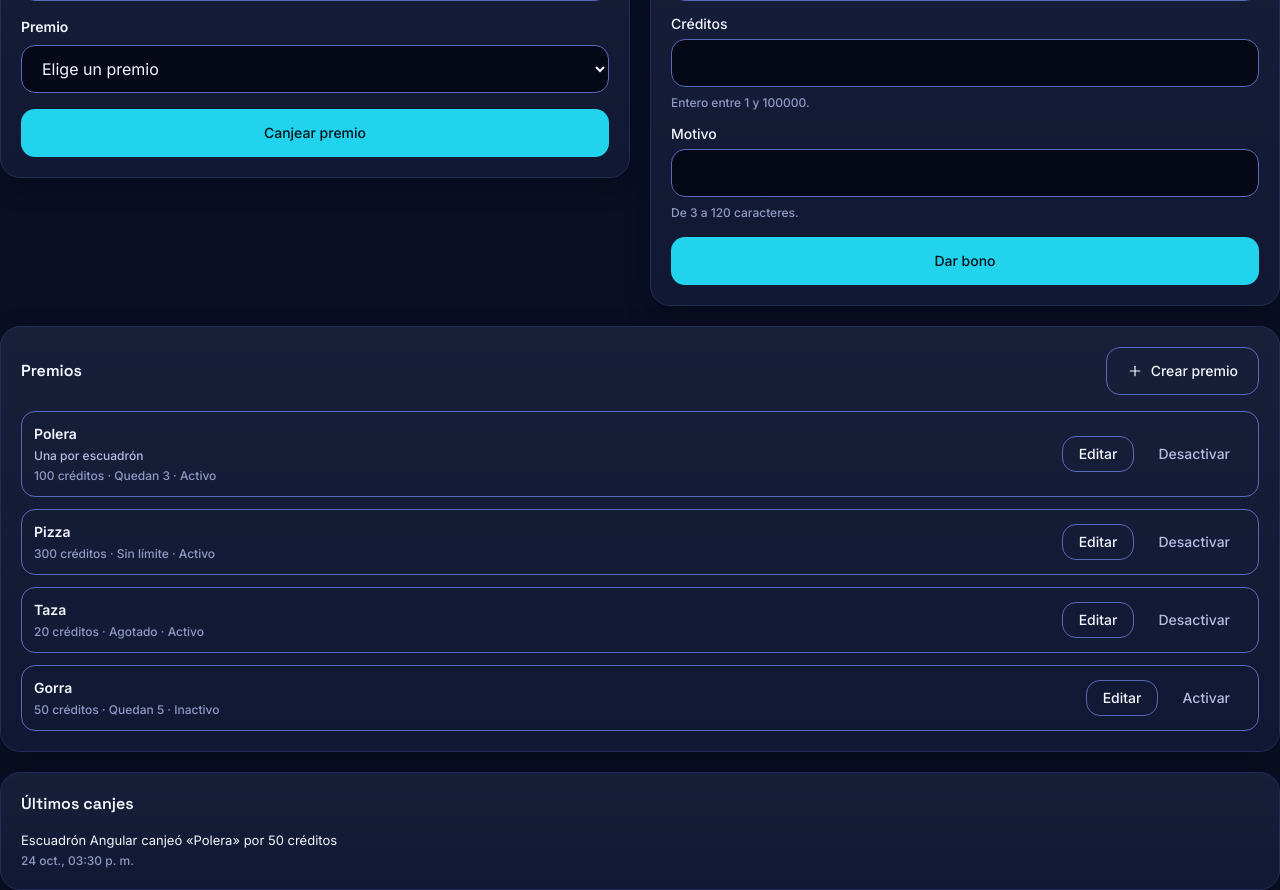
Test: SquadCreditsAdminView › prizes › edits a prize with its values, the id fixed, and an empty stock as no limit
The image size is (1280, 890).
(page scrolled)
Click the button "Editar" in the row of "Una por escuadrón" at (1098, 454), box [1062, 436, 1134, 472]
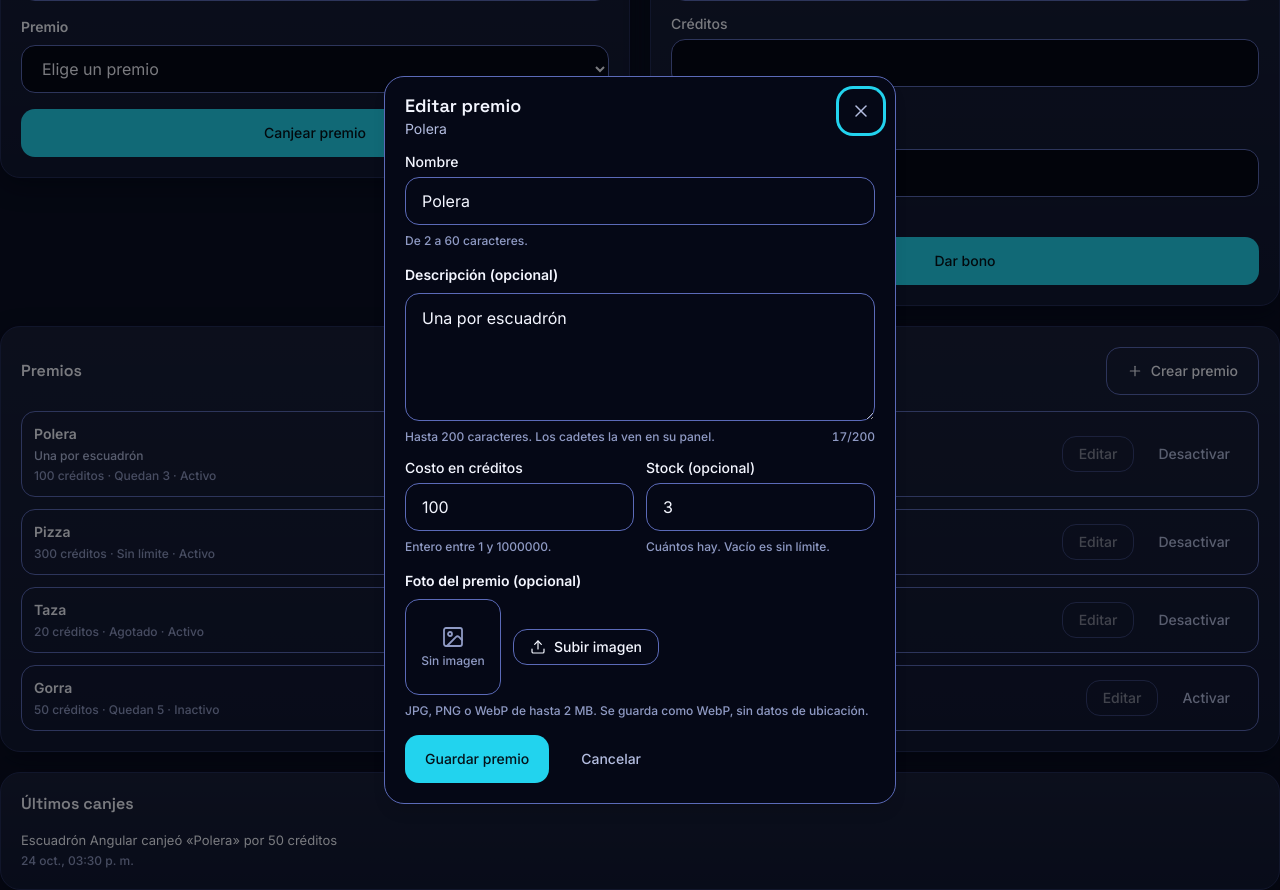
Check: the field labelled "Nombre" holds "Polera", box [405, 177, 875, 225]
Check: the text box labelled "Descripción (opcional)" holds "Una por escuadrón", box [405, 293, 875, 421]
Check: the field labelled "Costo en créditos" holds "100", box [405, 483, 634, 531]
Clear the field labelled "Stock (opcional)" at (760, 507), box [646, 483, 875, 531]
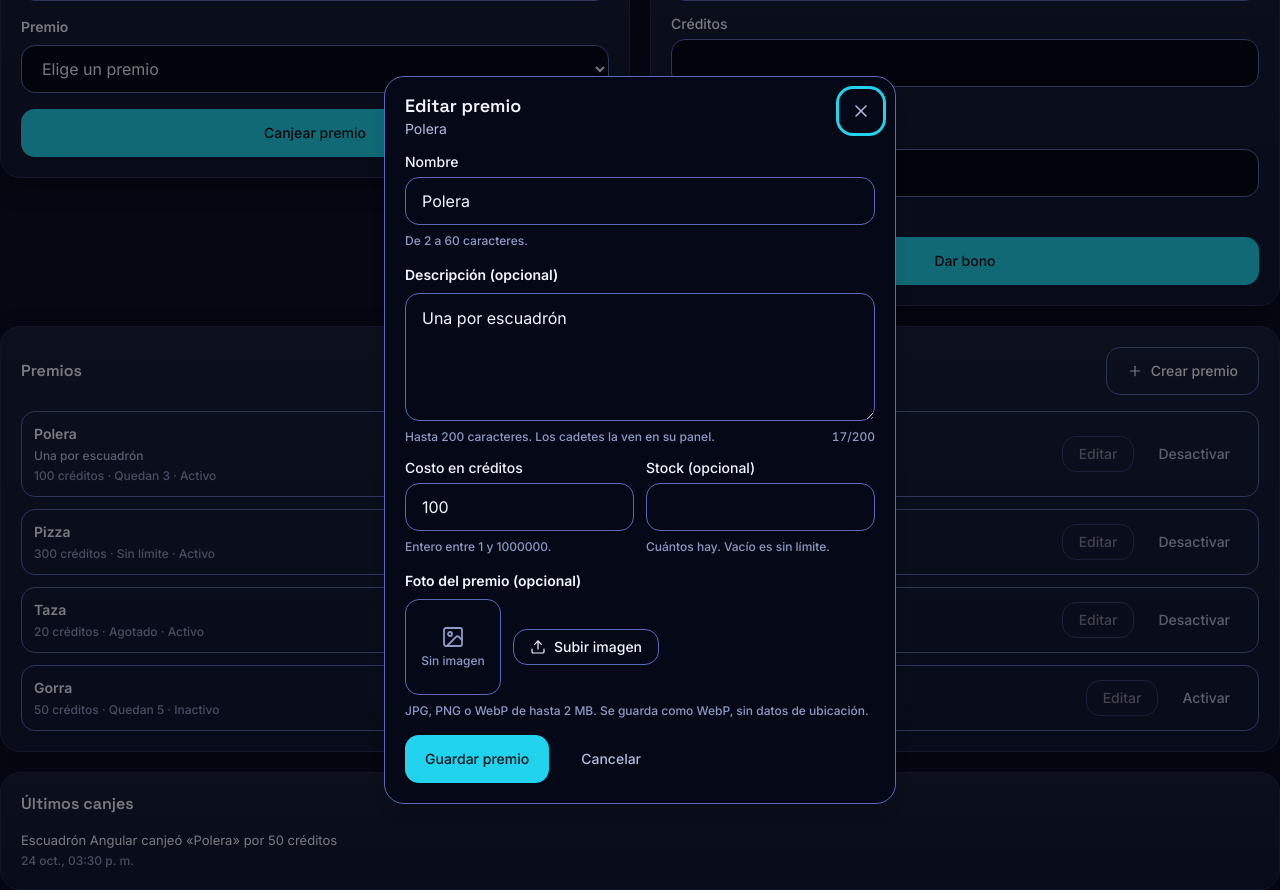
Click the button "Guardar premio" at (477, 759), box [405, 735, 549, 783]
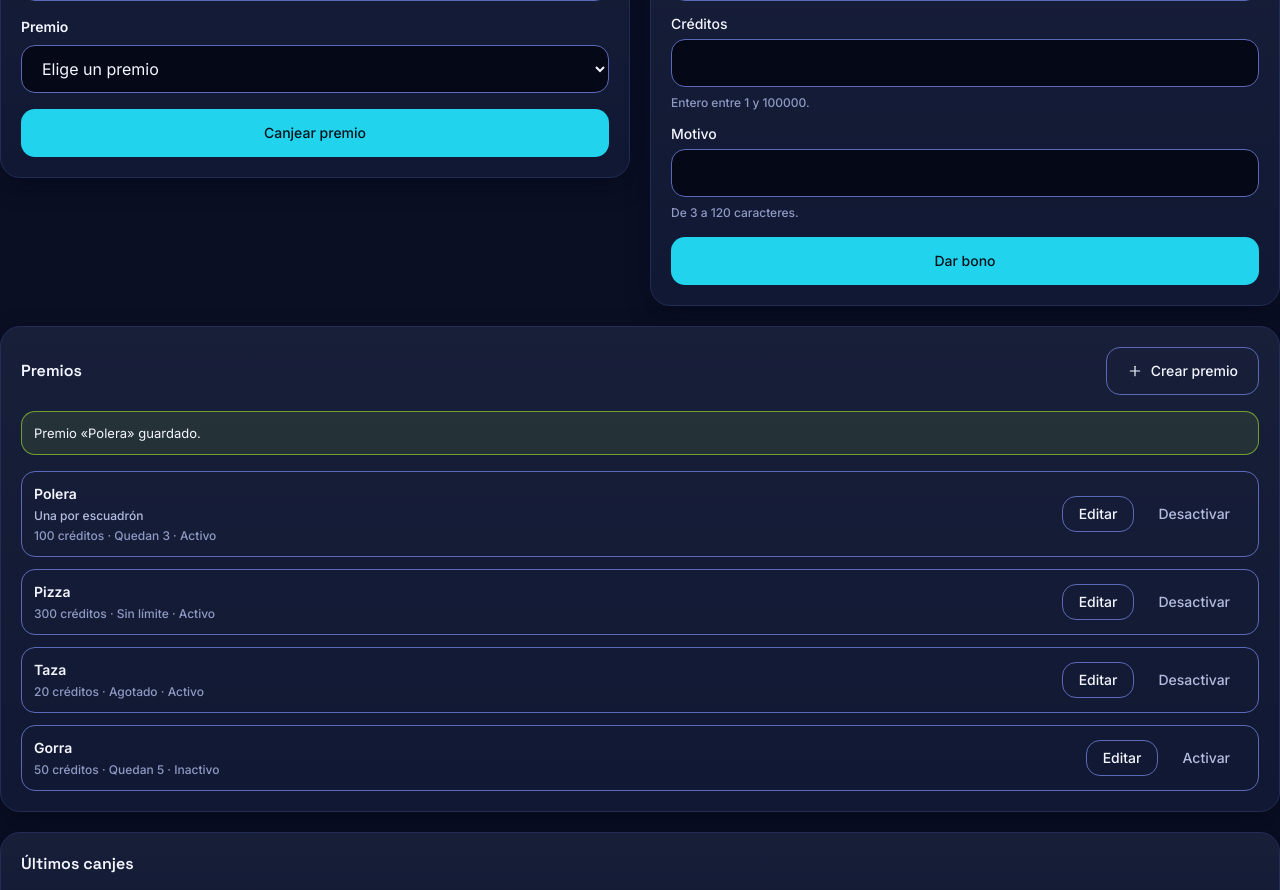
Check: the text "Premio «Polera» guardado." is shown, box [21, 411, 1259, 455]
